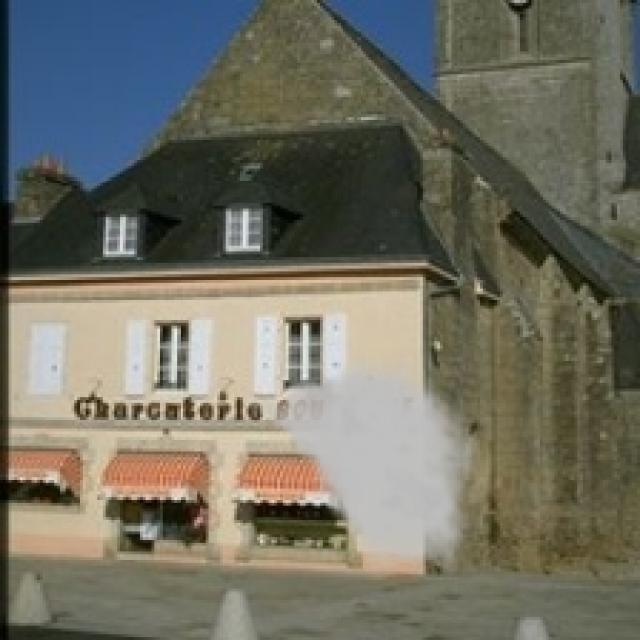smoke: (237, 348, 480, 583)
